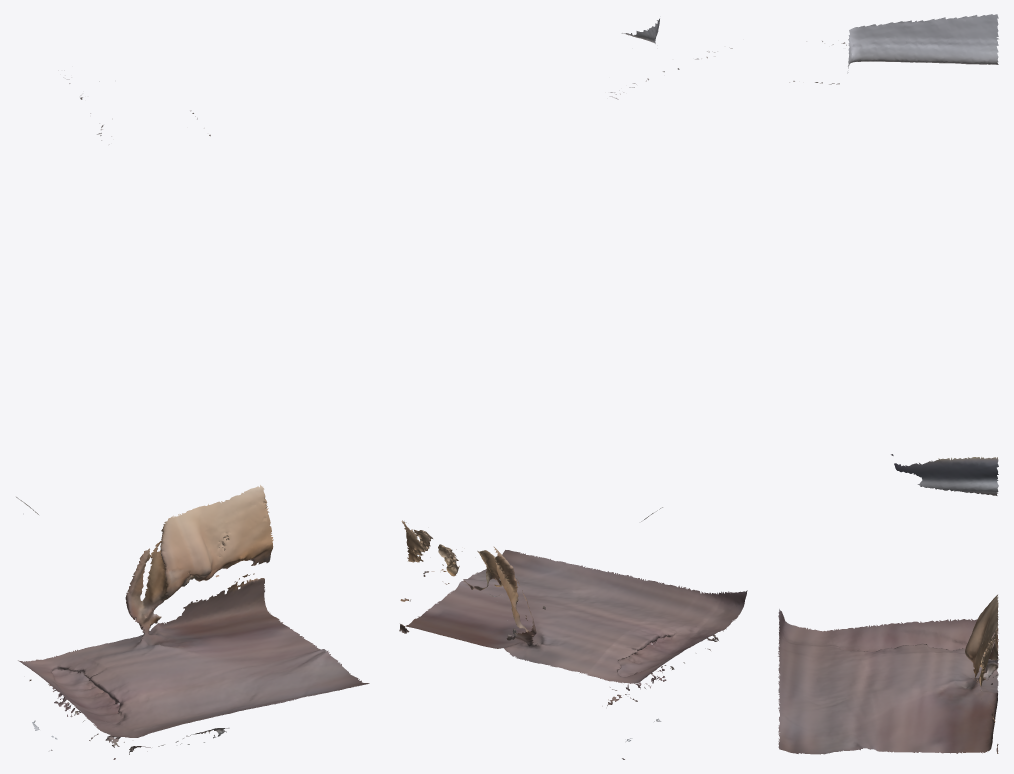
File: apartment-full-18-302a63f5be5e.glb
3 renders of one model, left to right at view 1: azimuth 30°, elevation 25°; view 2: azimuth 150°, elevation 25°; view 3: azimuth 270°, elevation 25°, orthographic. The views are drawn at different scales.
Bounding box in the file's own units: 1.06 × 2.94 × 0.812.
